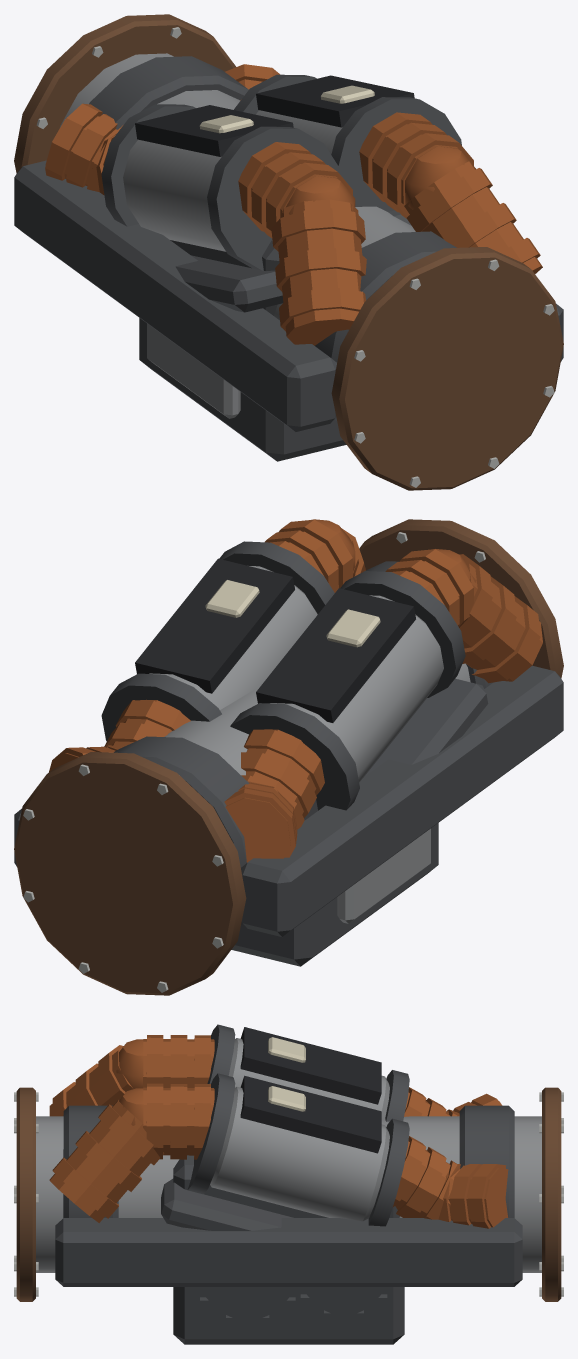
File: pump.glb
3 views of the same model, one above another, from view 1: azimuth 30°, elevation 25°; view 2: azimuth 150°, elevation 25°; view 3: azimuth 270°, elevation 25° (orthographic). The views are drawn at different scales.
Parts seen in each view (by area): view 1: body, anim_bob_b, anim_bob_a; view 2: body, anim_bob_a, anim_bob_b; view 3: body, anim_bob_b, anim_bob_a.
Part boxes in pixels (box(x1,y1,x2,y2)): body: box(14, 14, 563, 490); anim_bob_b: box(320, 85, 374, 103); anim_bob_a: box(199, 115, 253, 133); body: box(14, 519, 563, 995); anim_bob_a: box(326, 609, 380, 647); anim_bob_b: box(205, 580, 259, 617); body: box(14, 1024, 563, 1344); anim_bob_b: box(268, 1086, 305, 1111); anim_bob_a: box(268, 1037, 305, 1062).
Size of the model in its own units: 0.96 by 1.04 by 2.
